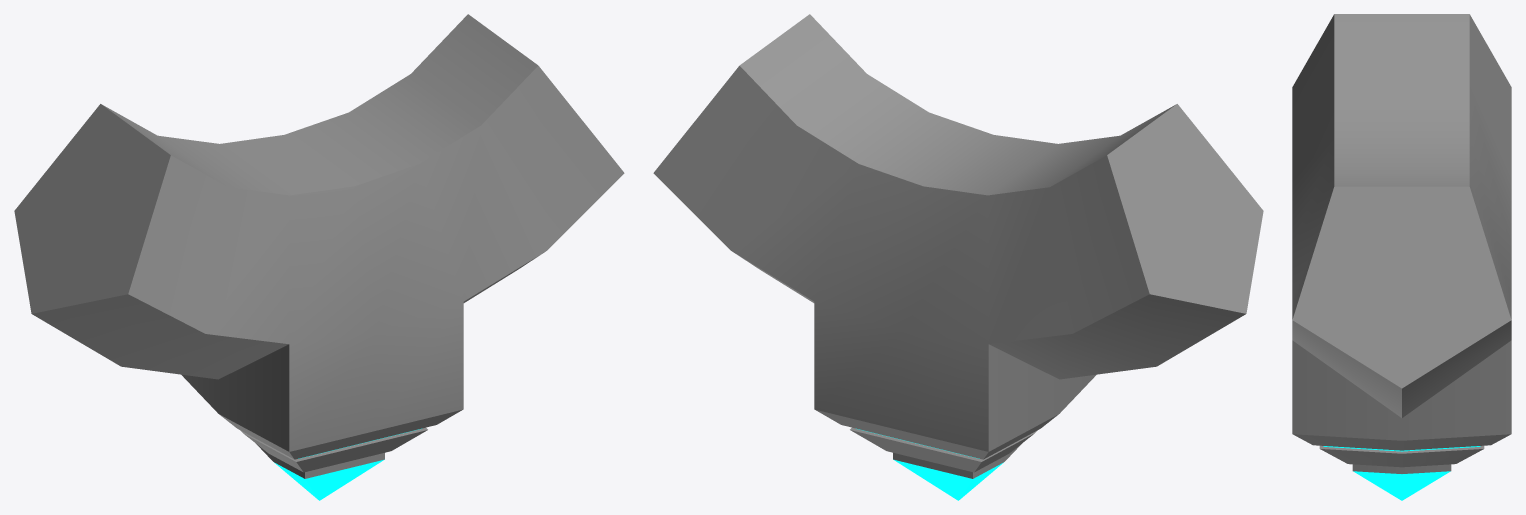
Rendered from Ring Holder Sci Fi.fbx.
3 renders of one model, left to right at view 1: azimuth 30°, elevation 25°; view 2: azimuth 150°, elevation 25°; view 3: azimuth 270°, elevation 25°, orthographic. The views are drawn at different scales.
Parts seen in each view (by area): view 1: Torus.001; view 2: Torus.001; view 3: Torus.001.
Part boxes in pixels (<box>): Torus.001: <box>14,14,624,500</box>; Torus.001: <box>653,14,1263,500</box>; Torus.001: <box>1292,14,1511,500</box>.
Bounding box in the file's own units: 177 × 122 × 60.7.
